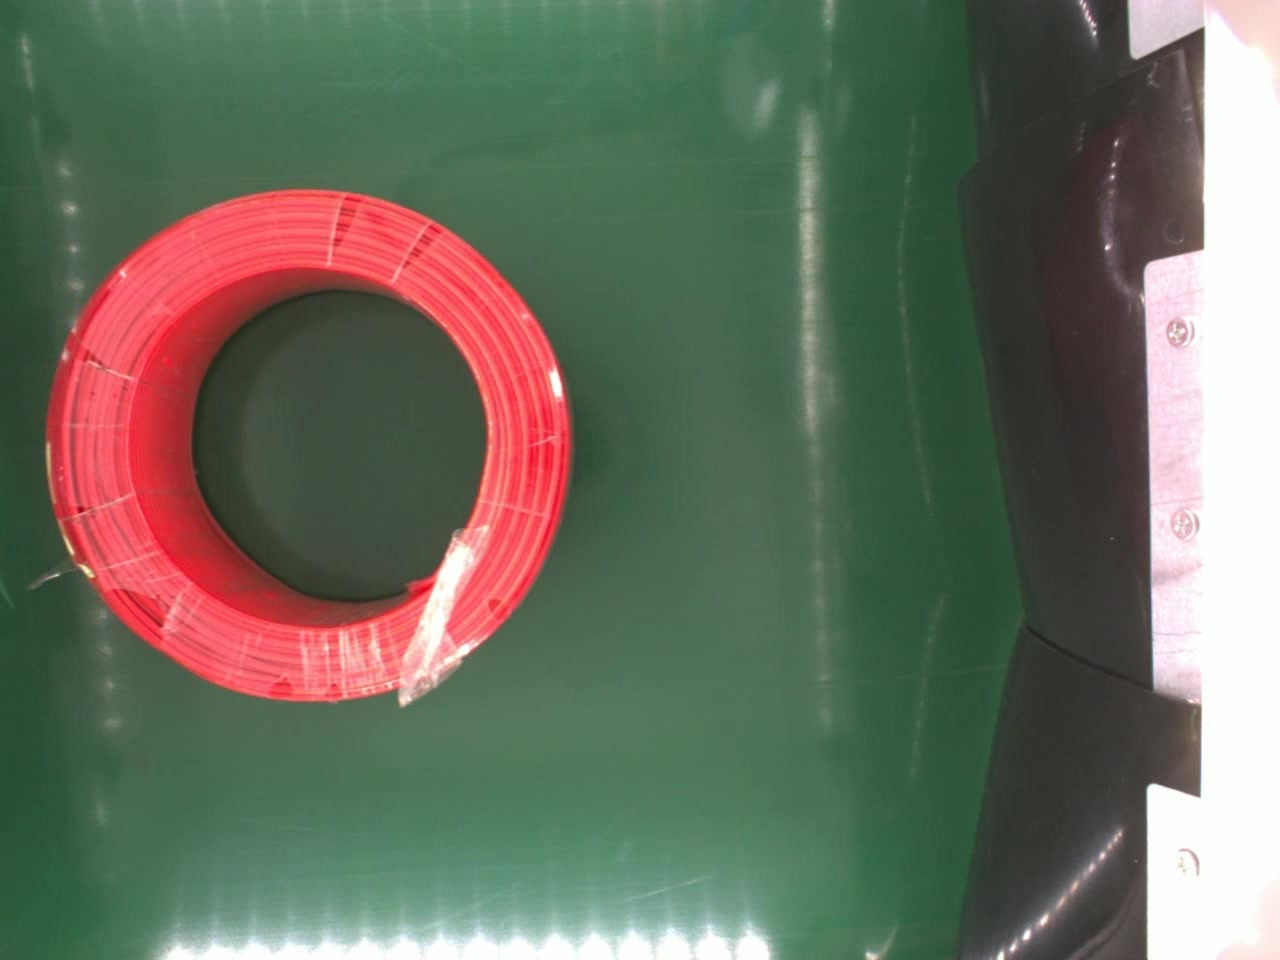red: (43, 186, 577, 708)
